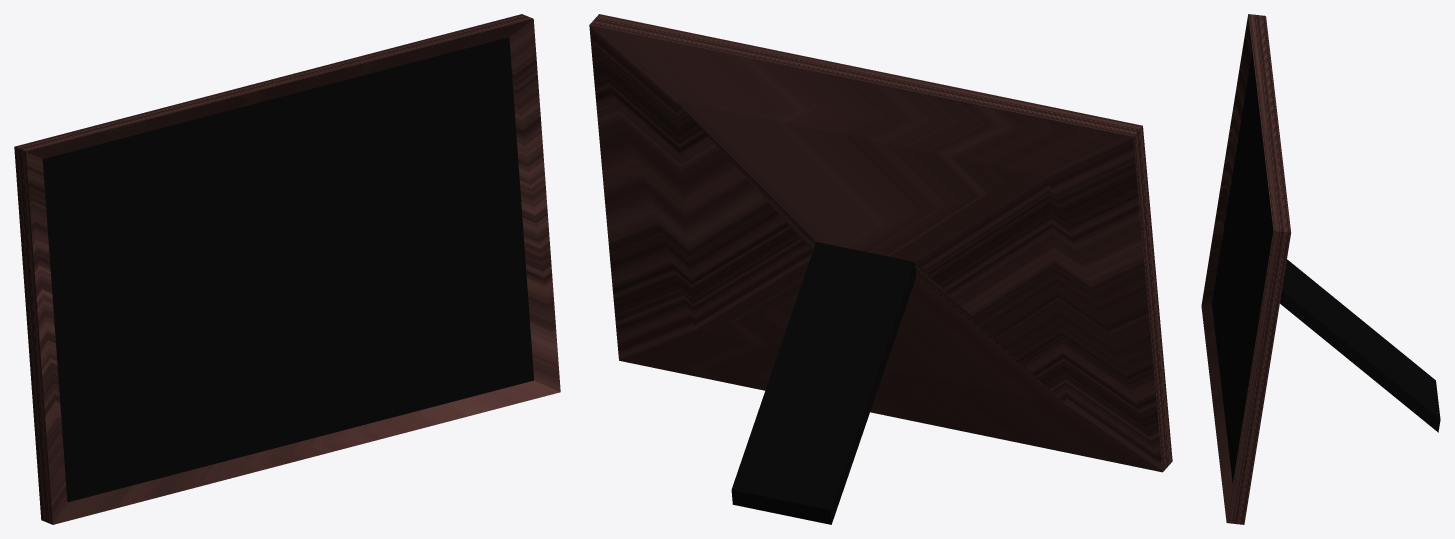
Rendered from picture_frame.fbx.
3 views of the same model, side by side, from view 1: azimuth 30°, elevation 25°; view 2: azimuth 150°, elevation 25°; view 3: azimuth 270°, elevation 25° (orthographic). The views are drawn at different scales.
Parts seen in each view (by area): view 1: picture_frame1; view 2: picture_frame1; view 3: picture_frame1.
Boxes of the visible parts, bbox=[...] form: picture_frame1: bbox=[14, 14, 560, 524]; picture_frame1: bbox=[589, 14, 1172, 524]; picture_frame1: bbox=[1201, 14, 1440, 524].
Size of the model in its own units: 17.99 by 11.86 by 8.54.
